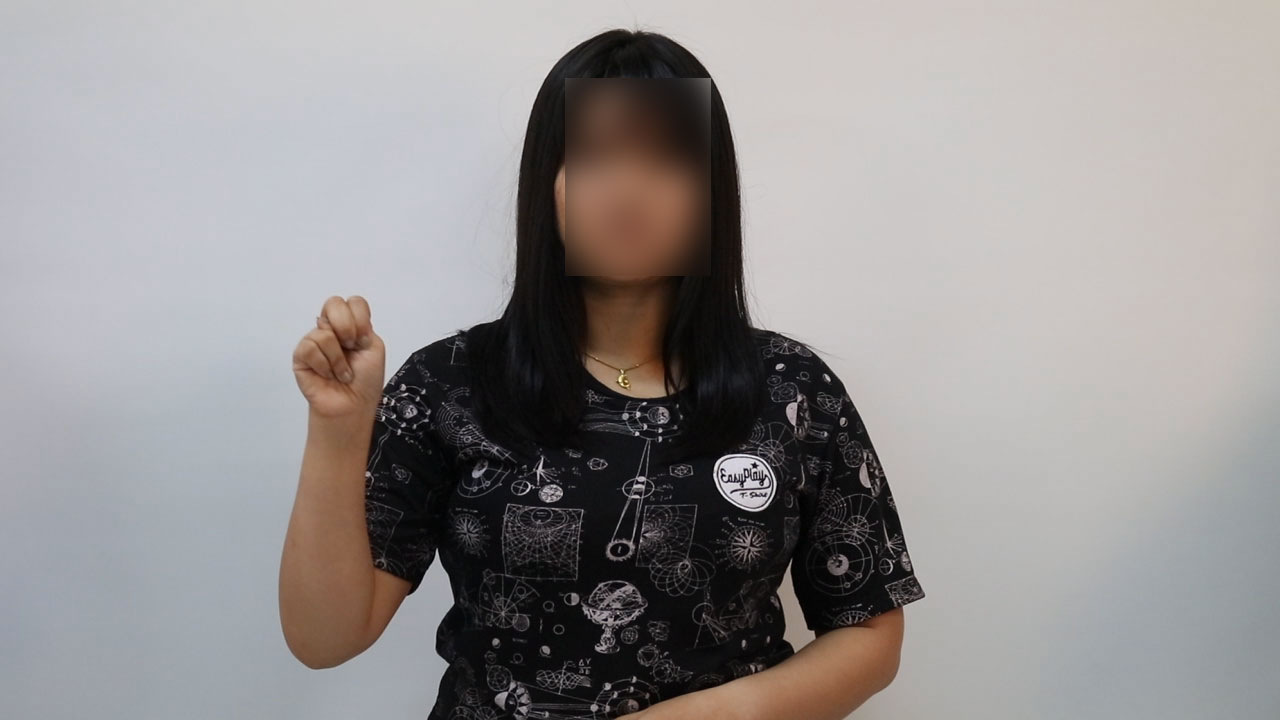nor: (278, 282, 397, 434)
